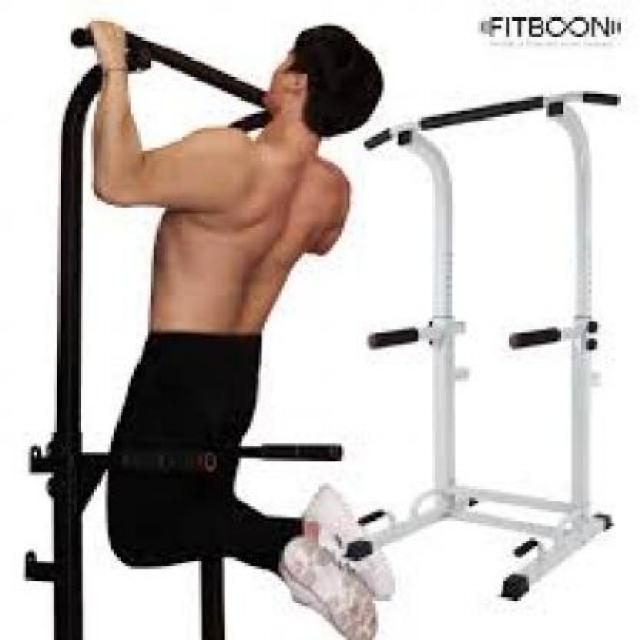chinning dipping: (349, 86, 623, 600)
